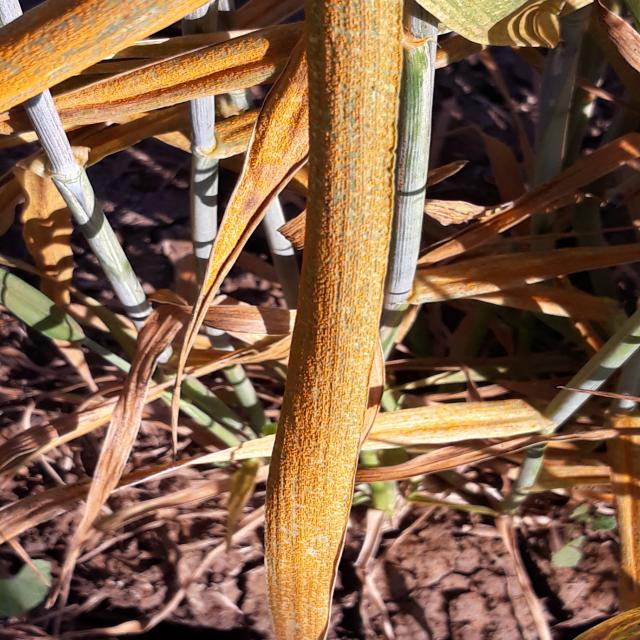yellow_rust: (252, 0, 416, 640), (130, 56, 327, 456), (4, 328, 250, 632), (421, 117, 640, 327), (2, 0, 308, 141), (380, 383, 638, 487), (419, 0, 607, 88), (0, 150, 97, 307)
